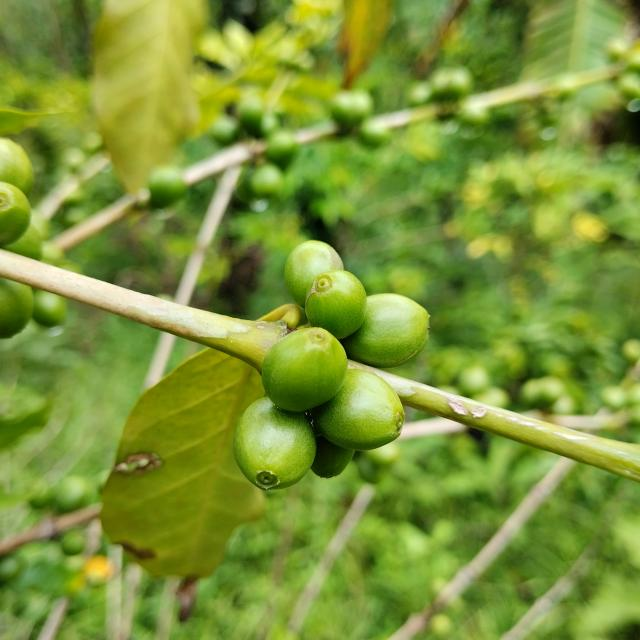green: (233, 397, 316, 491), (311, 369, 405, 451), (261, 328, 348, 412), (340, 294, 430, 368), (305, 270, 367, 339), (285, 240, 344, 307), (0, 277, 33, 338), (0, 181, 30, 247), (0, 137, 33, 195), (311, 436, 355, 479)
